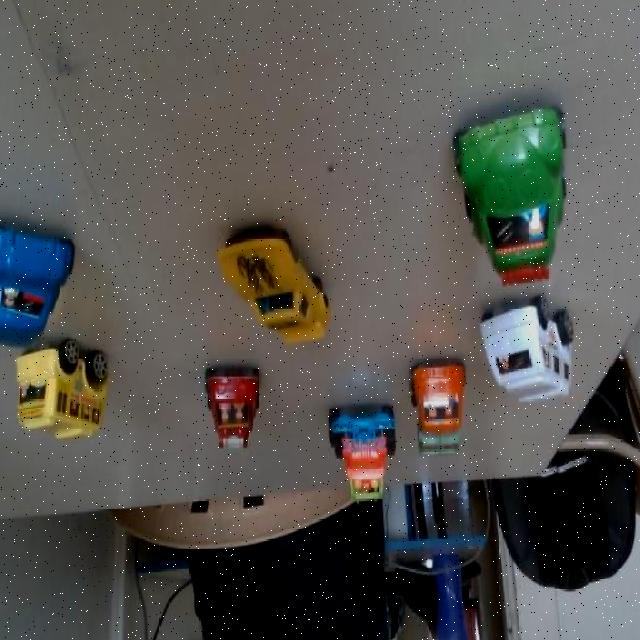car: (408, 29, 640, 318), (197, 202, 370, 361), (466, 266, 594, 424), (312, 402, 402, 516), (29, 333, 120, 438), (406, 345, 478, 471), (0, 218, 69, 346), (201, 353, 273, 457)
